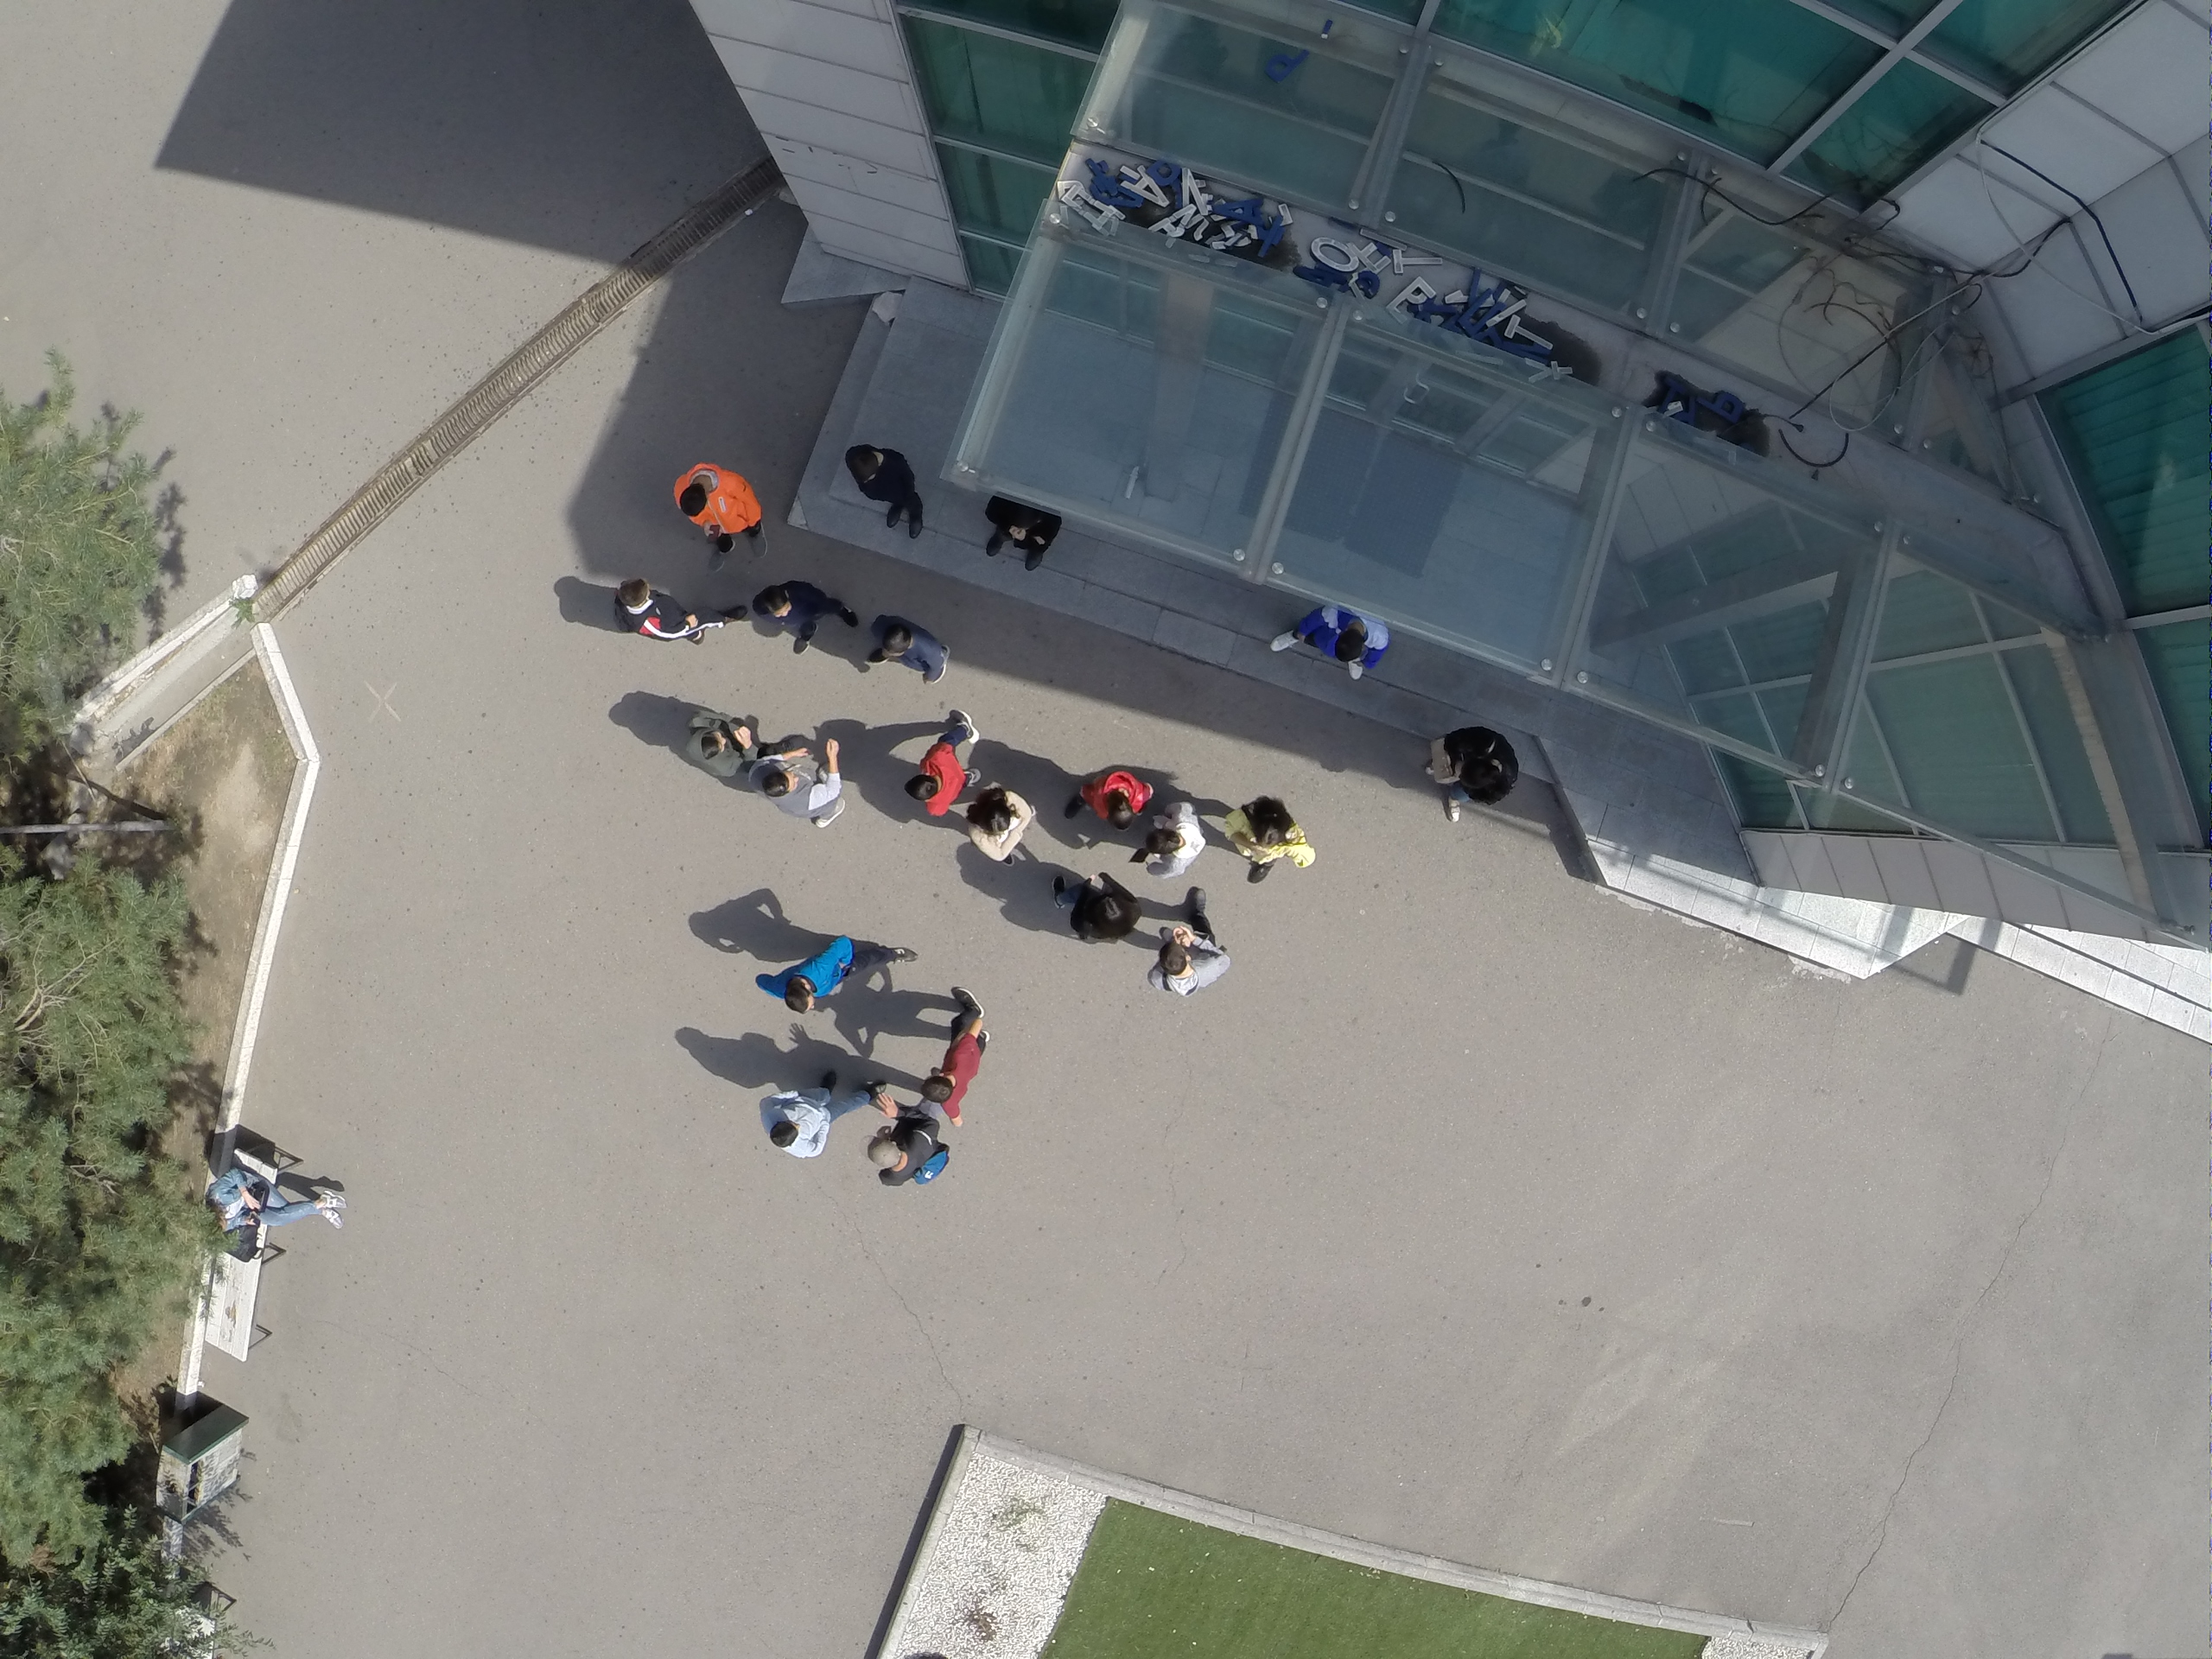person: (752, 934, 918, 1018), (670, 454, 769, 568), (758, 1069, 887, 1157), (918, 982, 992, 1127), (1419, 725, 1522, 830), (610, 576, 747, 653), (1268, 600, 1389, 686), (1144, 886, 1236, 998), (206, 1169, 351, 1232), (753, 735, 848, 829), (903, 709, 978, 823), (1221, 793, 1314, 886), (848, 436, 930, 538), (755, 581, 860, 660), (870, 1092, 945, 1198), (981, 483, 1060, 571), (868, 610, 949, 684), (965, 787, 1038, 867), (685, 706, 757, 780), (1068, 773, 1154, 833), (1146, 804, 1206, 879)
